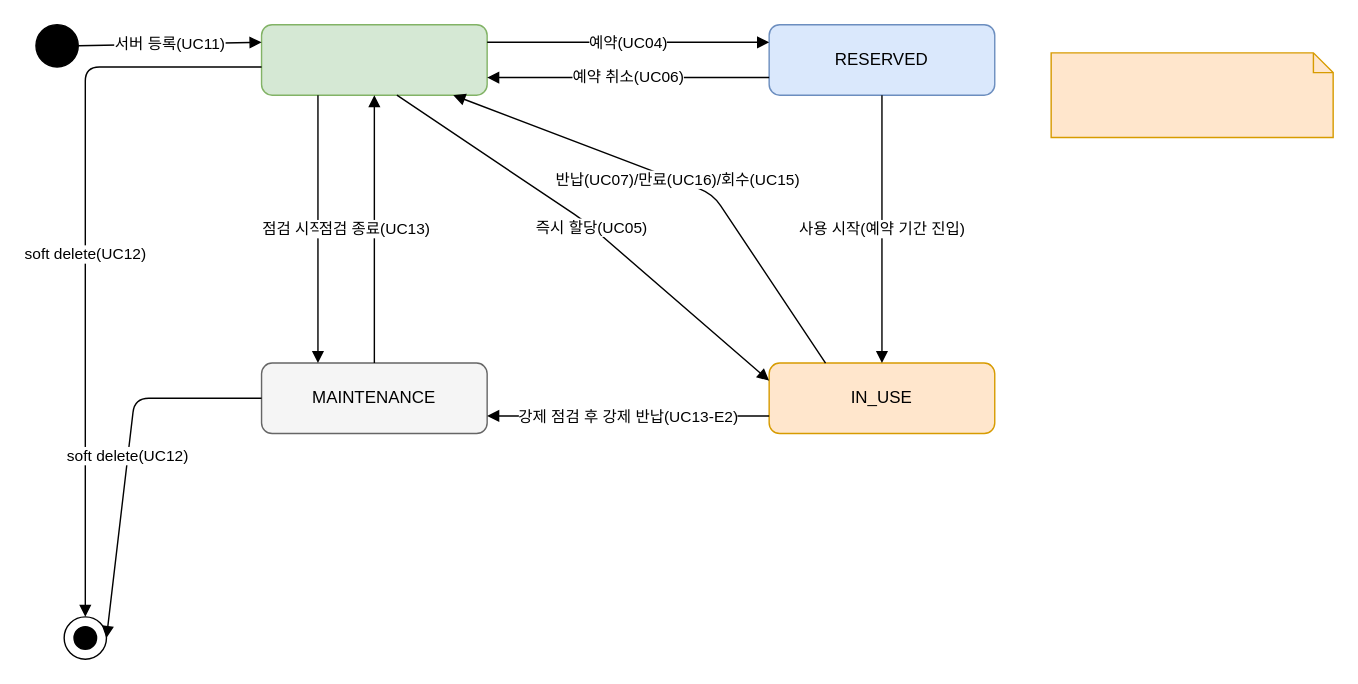
Some shapes in this 1358 by 684 pixel diagram are drawn without their labels. Here are the shapes that lost their labels. From the top down, the centre of each, then its label:
the point at 373,59: AVAILABLE
the point at 1191,94: 모든 전이 시 version += 1 (낙관적 잠금)
